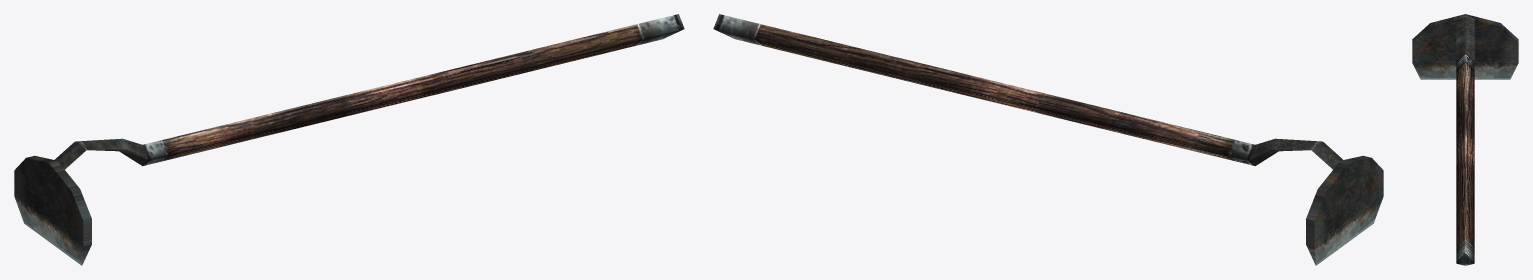
Rendered from ITMI_RAKE.glb.
3 renders of one model, left to right at view 1: azimuth 30°, elevation 25°; view 2: azimuth 150°, elevation 25°; view 3: azimuth 270°, elevation 25°, orthographic. The views are drawn at different scales.
Visible parts, largest first — view 1: ITMI_RAKE; view 2: ITMI_RAKE; view 3: ITMI_RAKE.
Boxes of the visible parts, x1,y1,x2,y2 form: ITMI_RAKE: [14, 14, 684, 265]; ITMI_RAKE: [713, 14, 1383, 265]; ITMI_RAKE: [1412, 14, 1518, 265].
Size of the model in its own units: 1.85 by 0.2696 by 0.35.
2 materials, 2 textured.
